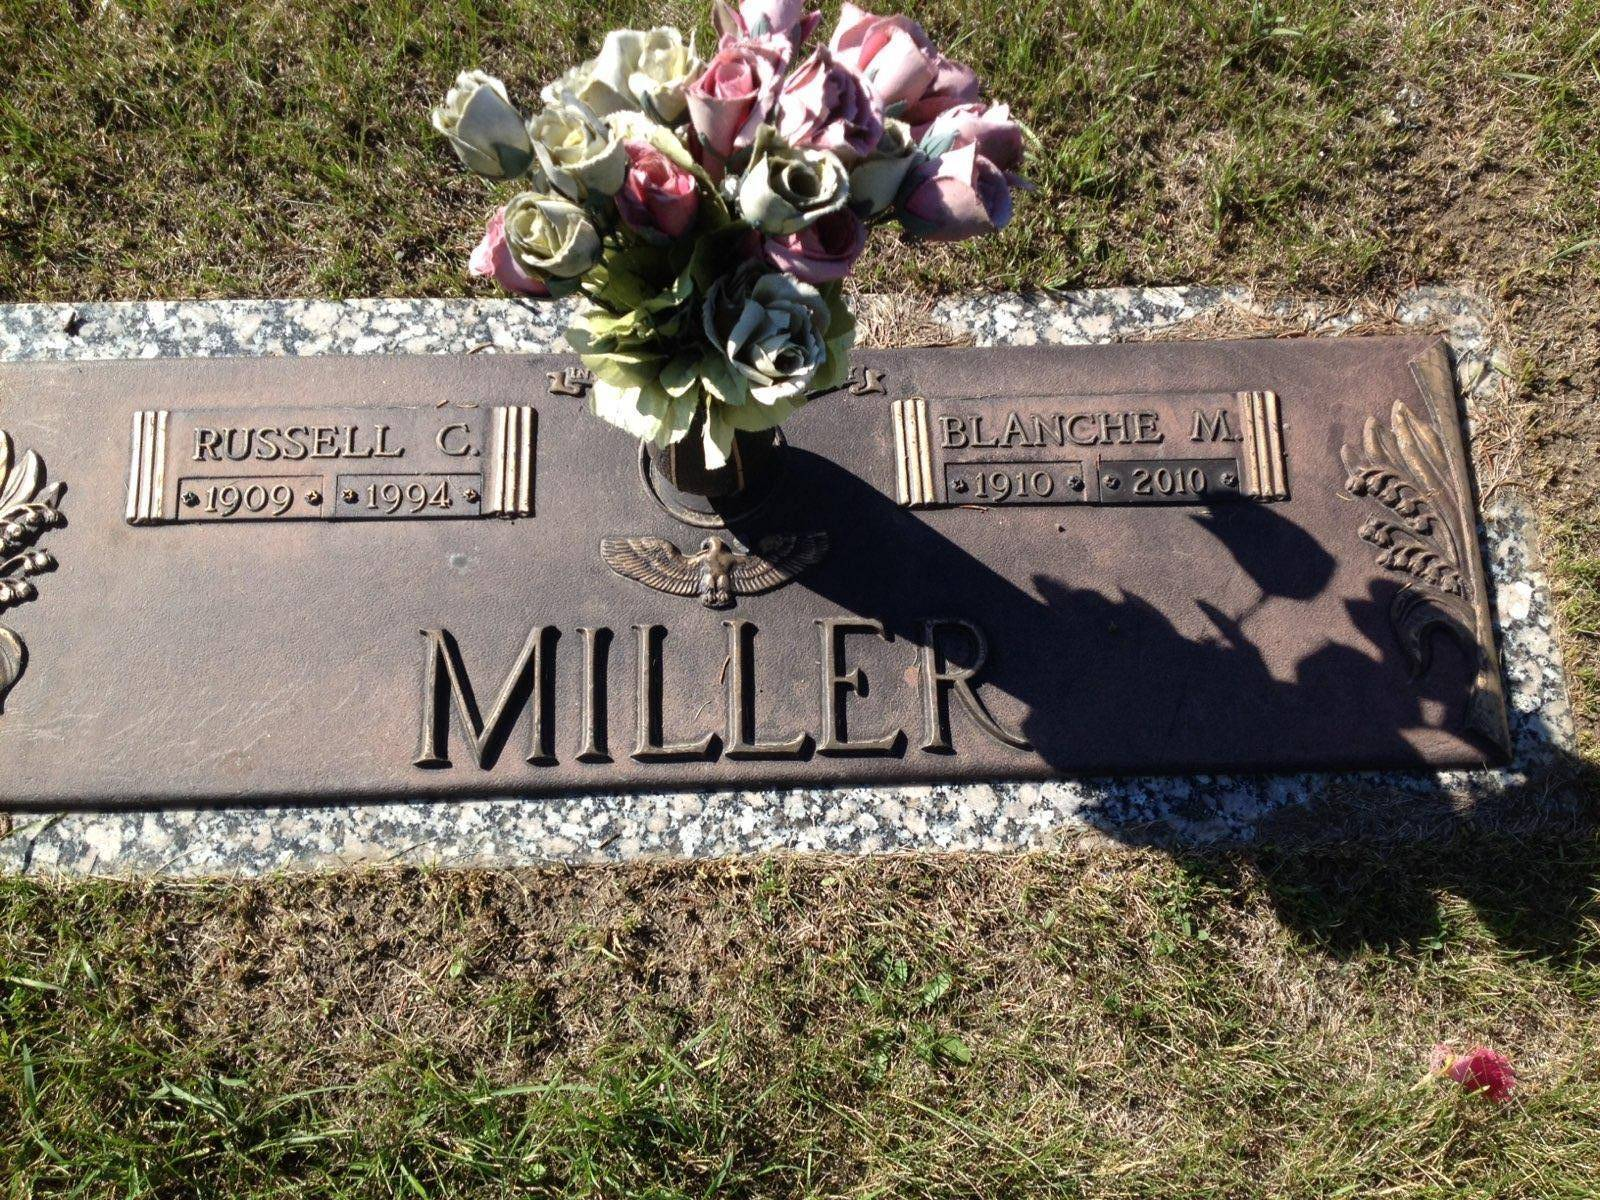flat: (0, 277, 1577, 874)
